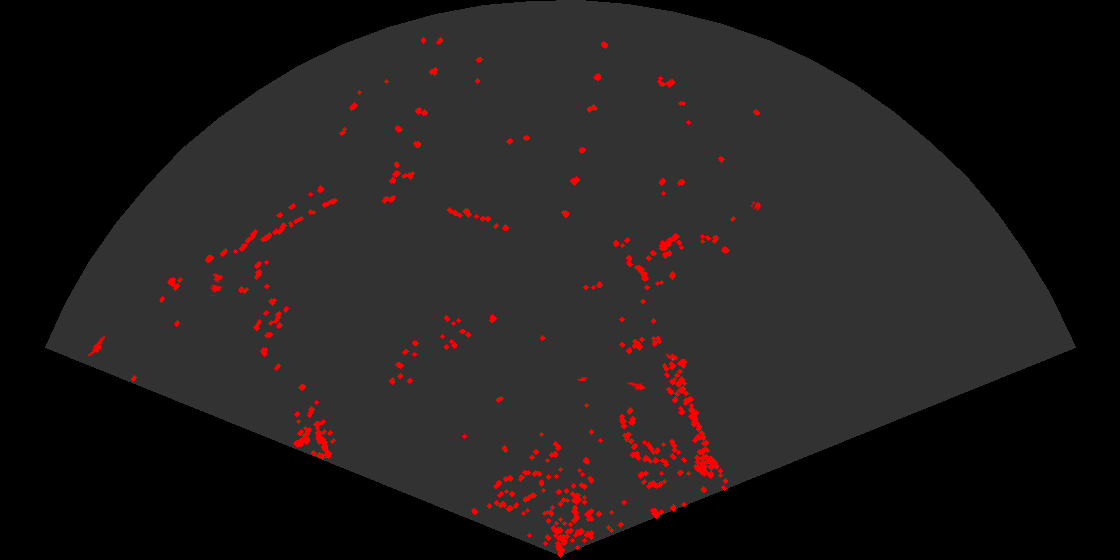AUV: (664, 352, 680, 363), (575, 375, 588, 381)
ball: (749, 200, 763, 212)
cage: (208, 272, 225, 296)
frogman: (88, 334, 108, 356), (627, 380, 645, 392)
